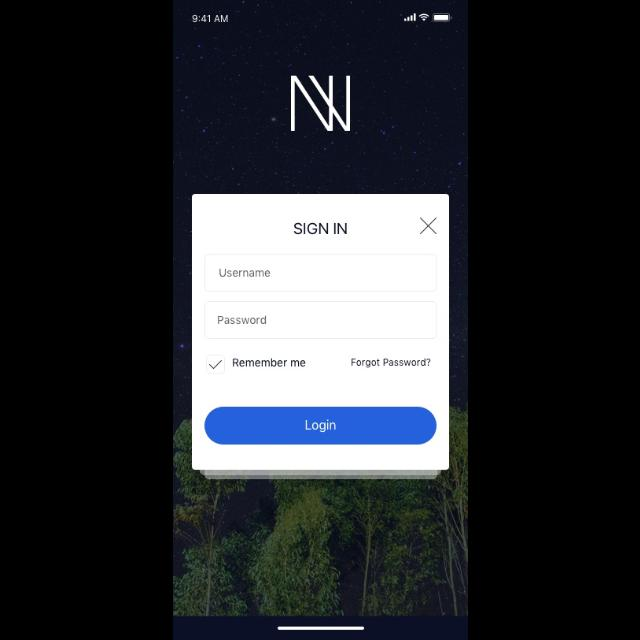backgroundimage: (173, 1, 467, 616)
checkbox: (205, 355, 223, 373)
icon: (419, 218, 437, 235)
image: (290, 76, 350, 132)
input: (204, 254, 436, 292), (204, 301, 436, 339)
text: (352, 358, 431, 368), (232, 357, 306, 367), (294, 222, 346, 235), (218, 269, 270, 277), (217, 316, 265, 324)
textbutton: (204, 407, 436, 445)
uppertaskbar: (192, 14, 452, 24)
